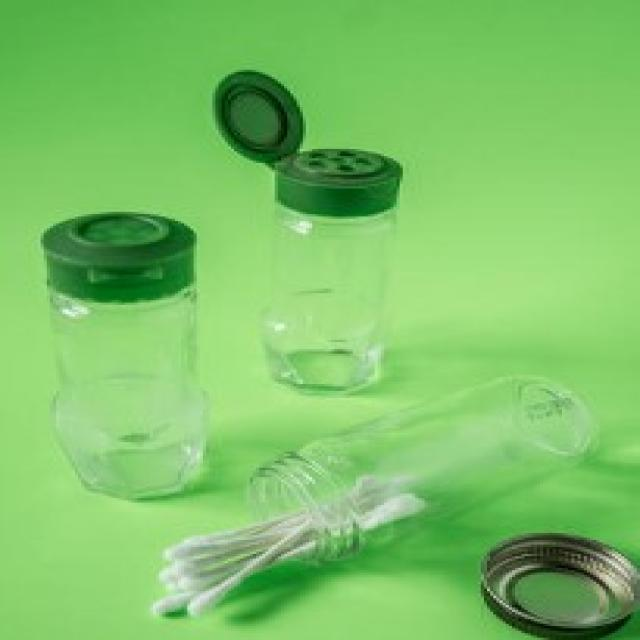electronic: (37, 66, 607, 565)
